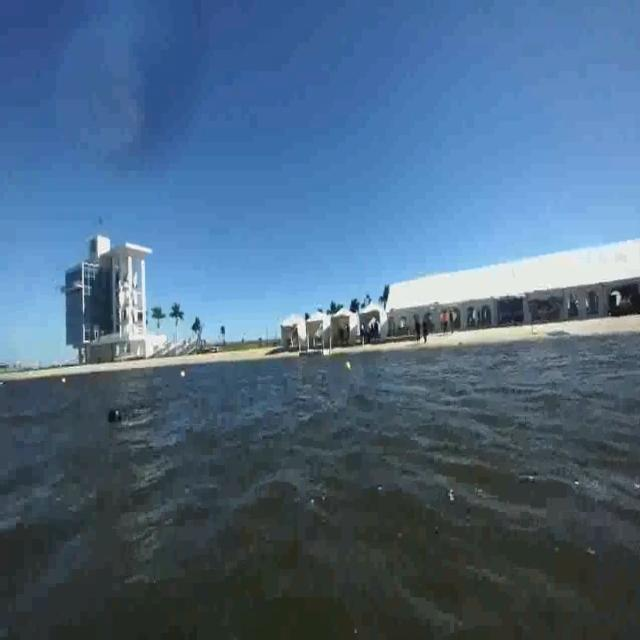black-buoy: (106, 399, 124, 429)
yellow-buoy: (344, 359, 353, 372)
